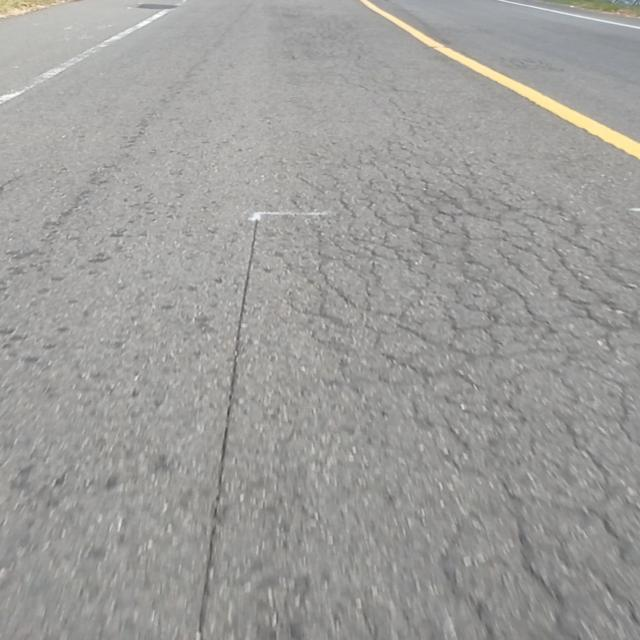Retak Buaya: (302, 145, 640, 640)
